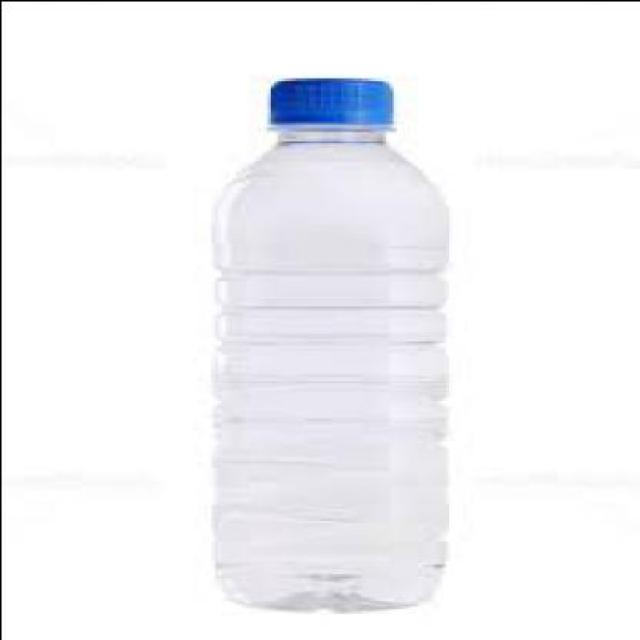PLASTIC: (210, 75, 452, 610), (270, 75, 398, 130)
